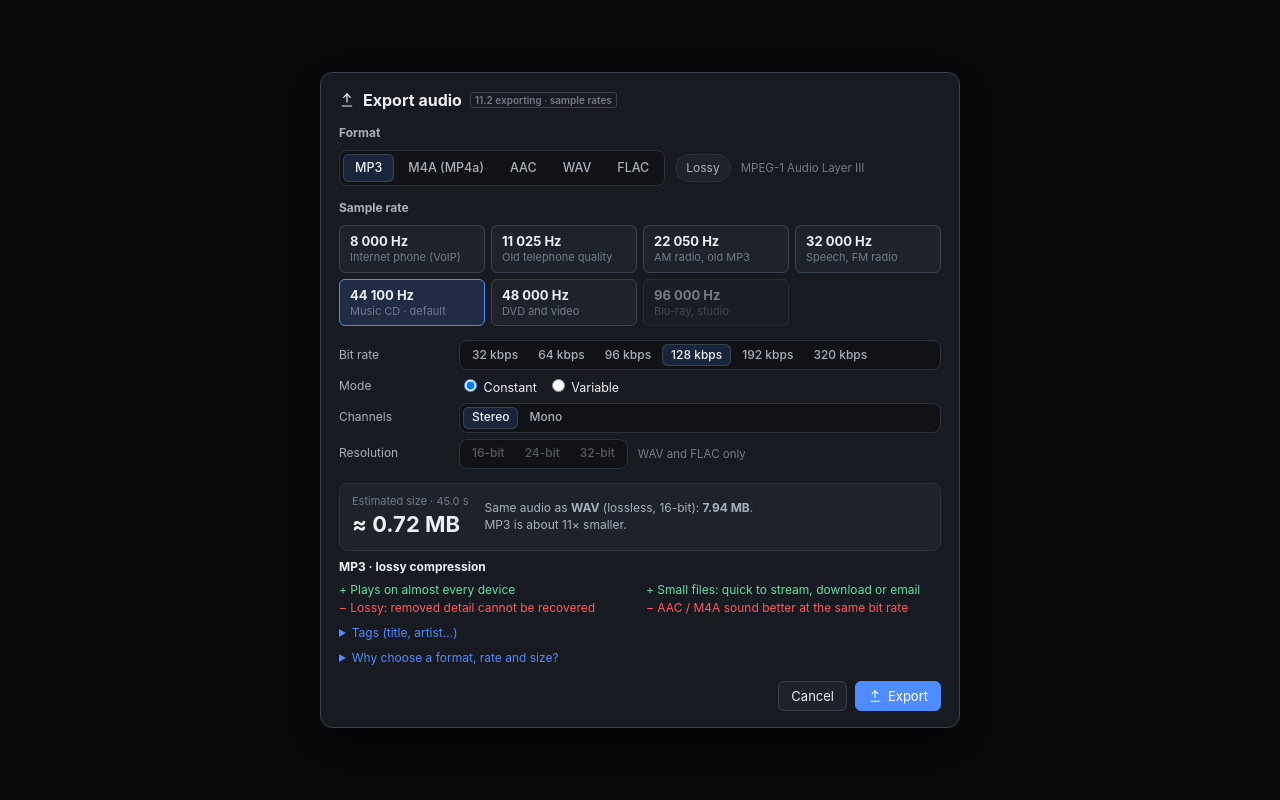
Test case: audio export dialog › a rate the new format cannot have is lowered; FLAC shows "up to"
The width and height of the screenshot is (1280, 800).
Click the button "WAV". click: click(577, 168)
box: [551,154,603,182]
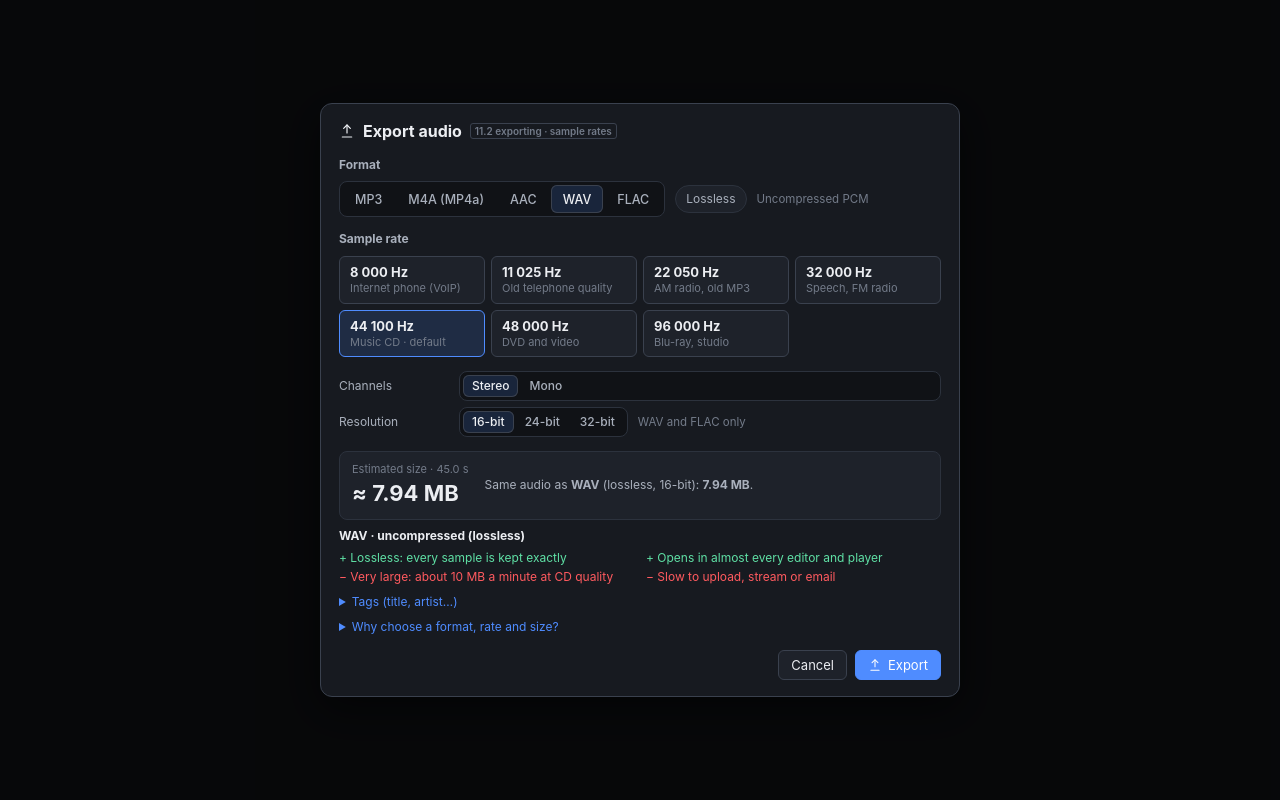
Click the button "96 000 Hz Blu-ray, studio". click: click(716, 334)
box: [643,310,789,357]
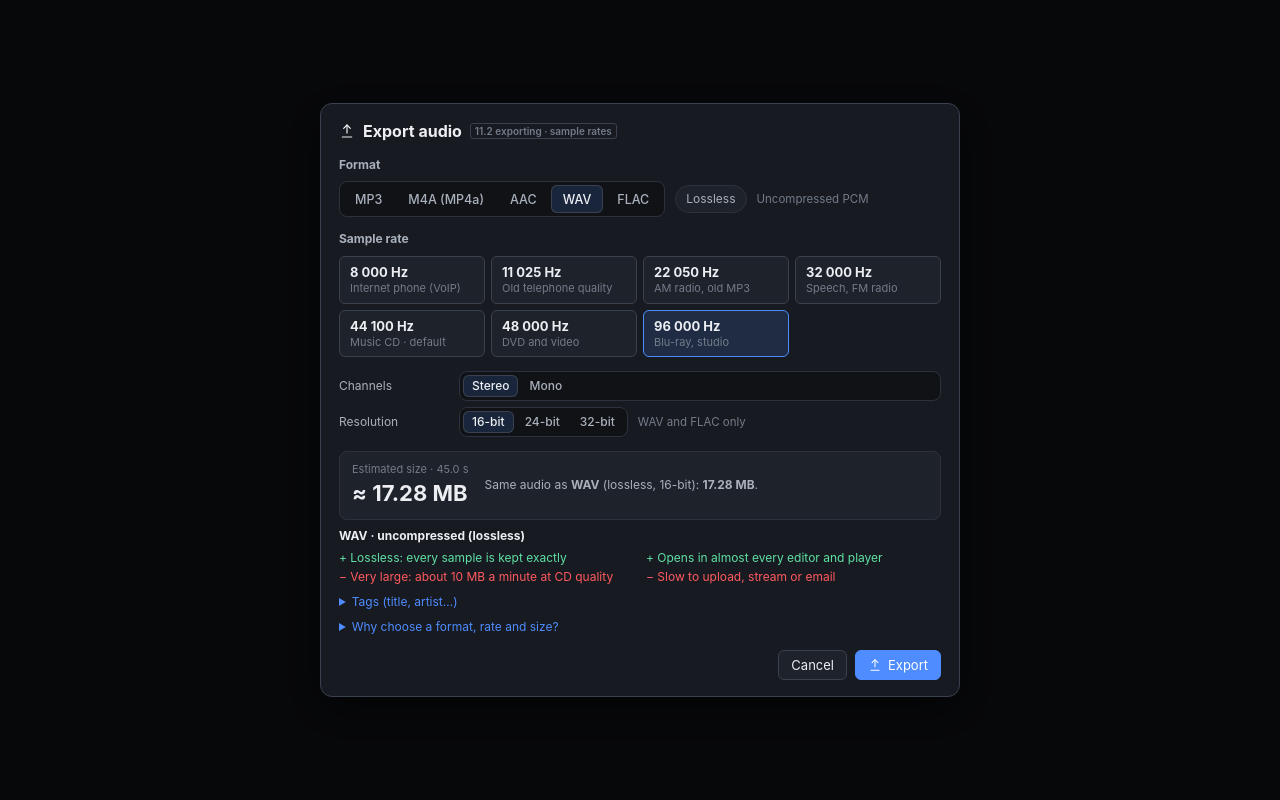
Click the button "MP3". click: click(369, 199)
box: [343,185,394,213]
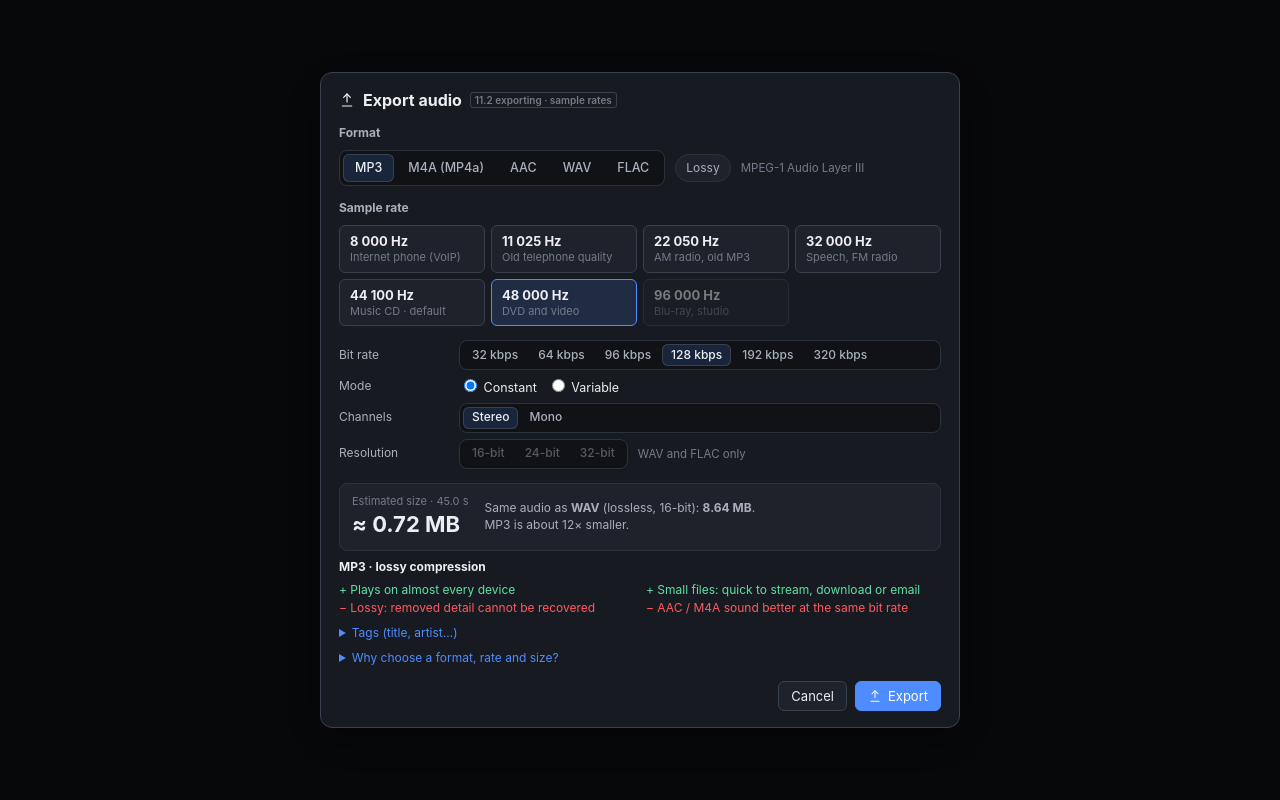
Click the button "FLAC". click: click(633, 168)
box: [605,154,661,182]
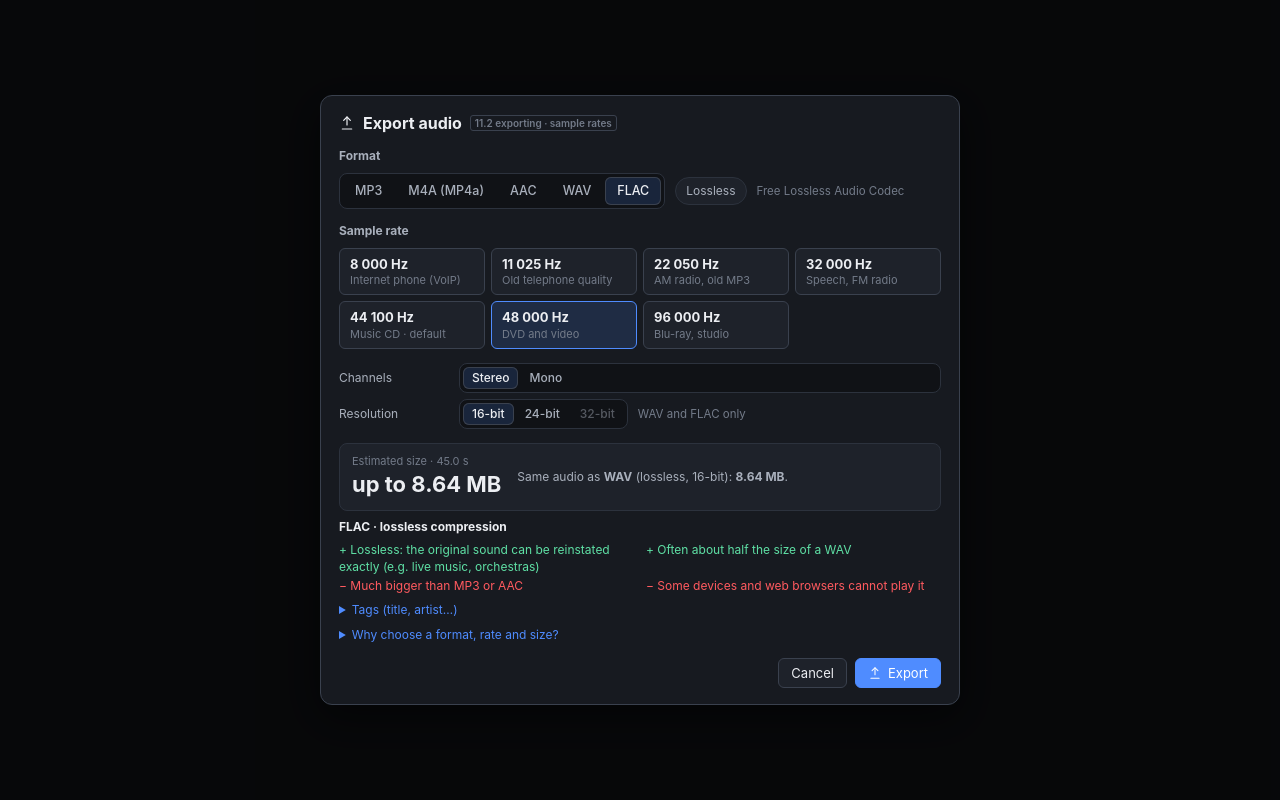
Result: the text named "Estimated file size" shows "up to" at [352,471,501,497]
